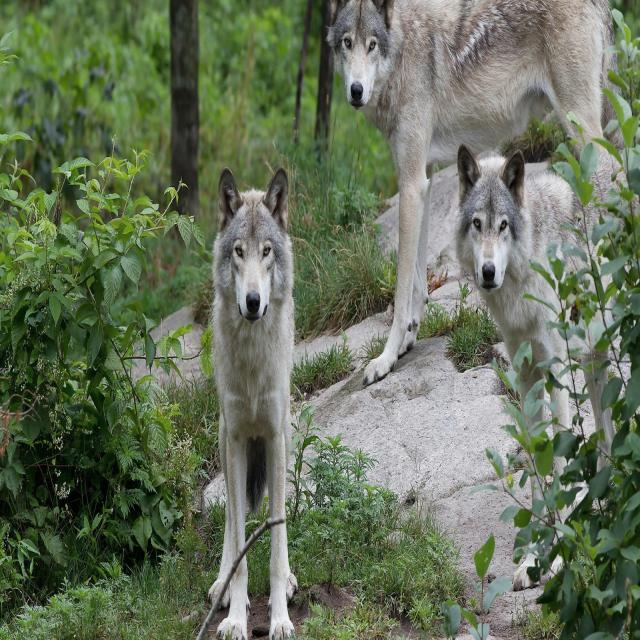wolf: (326, 0, 615, 384), (210, 166, 294, 599), (455, 145, 577, 400)
